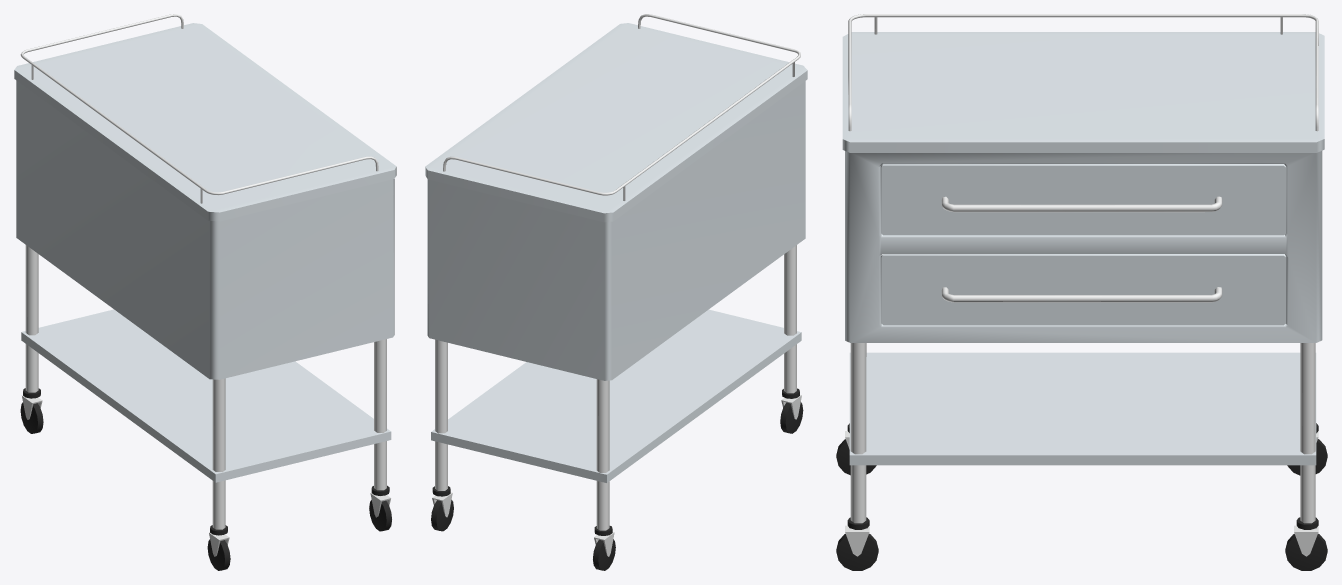
Rendered from Trolly Droor.fbx.
The picture shows the model from 3 angles, left to right: view 1: azimuth 30°, elevation 25°; view 2: azimuth 150°, elevation 25°; view 3: azimuth 270°, elevation 25°; orthographic projection. The views are drawn at different scales.
Parts seen in each view (by area): view 1: Trolly_Table1, Metal_Bars; view 2: Trolly_Table1, Metal_Bars; view 3: Trolly_Table1, Skuffer, Metal_Bars.
Part boxes in pixels (x1,y1,x2,y2): Trolly_Table1: (14, 23, 396, 570); Metal_Bars: (21, 14, 386, 529); Trolly_Table1: (425, 23, 807, 570); Metal_Bars: (435, 14, 800, 530); Trolly_Table1: (836, 14, 1327, 570); Skuffer: (883, 165, 1283, 325); Metal_Bars: (848, 14, 1318, 523).
Bounding box in the file's own units: 47.09 × 84.13 × 82.27.
